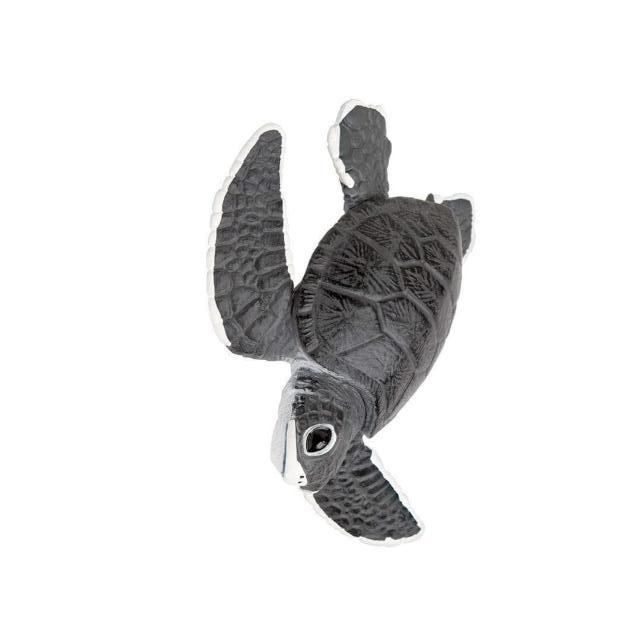turtle: (209, 97, 477, 542)
